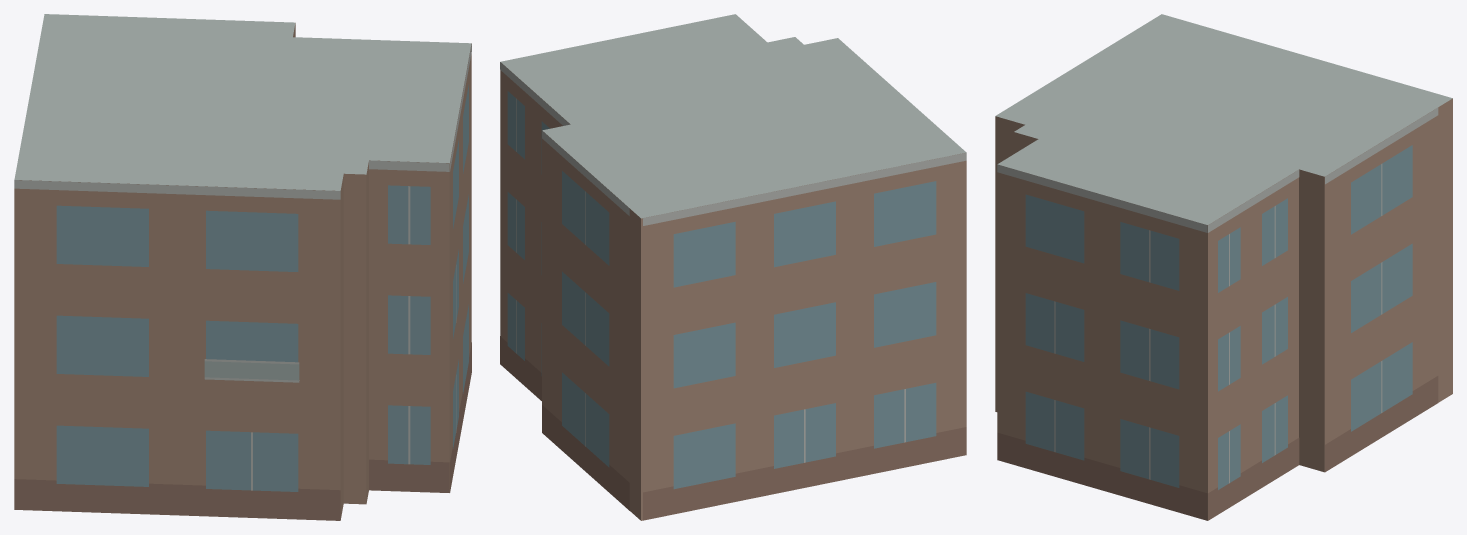
Rendered from survey-upis-32473927.glb.
The picture shows the model from 3 angles, left to right: view 1: azimuth 30°, elevation 25°; view 2: azimuth 150°, elevation 25°; view 3: azimuth 270°, elevation 25°; orthographic projection. The views are drawn at different scales.
Parts seen in each view (by area): view 1: survey-upis-32473927.tmp; view 2: survey-upis-32473927.tmp; view 3: survey-upis-32473927.tmp.
Boxes of the visible parts, box(x1,y1,x2,y2) form: survey-upis-32473927.tmp: box(14, 14, 471, 520); survey-upis-32473927.tmp: box(500, 14, 966, 520); survey-upis-32473927.tmp: box(995, 14, 1452, 520).
Bounding box in the file's own units: 14.03 × 9.15 × 12.85.
